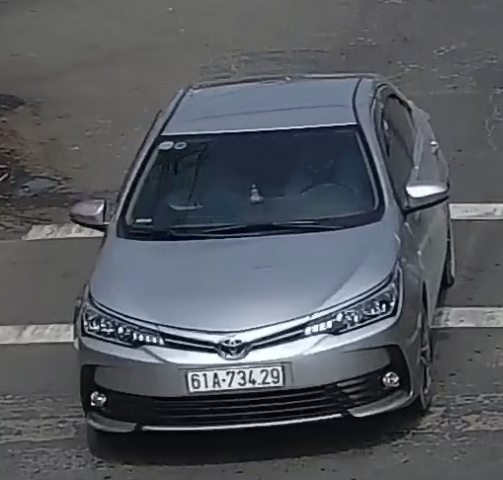vehicle plate: (180, 363, 285, 390)
